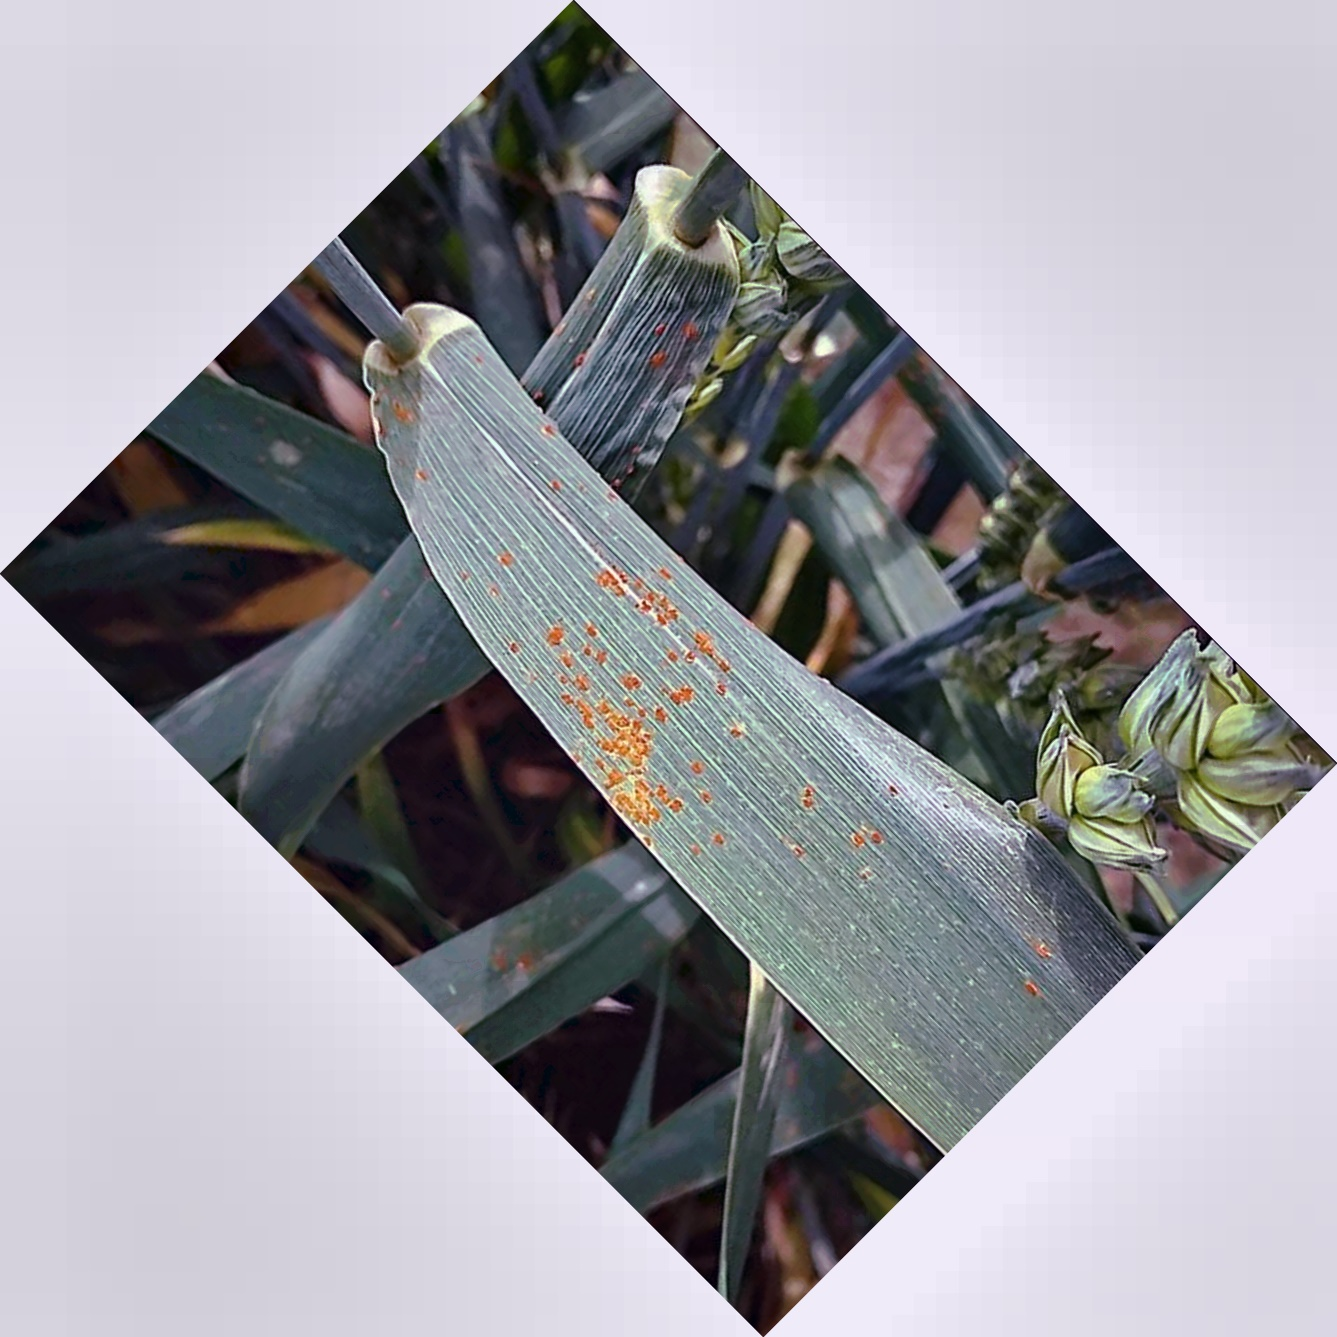Leaf Rust: (463, 493, 784, 915)
